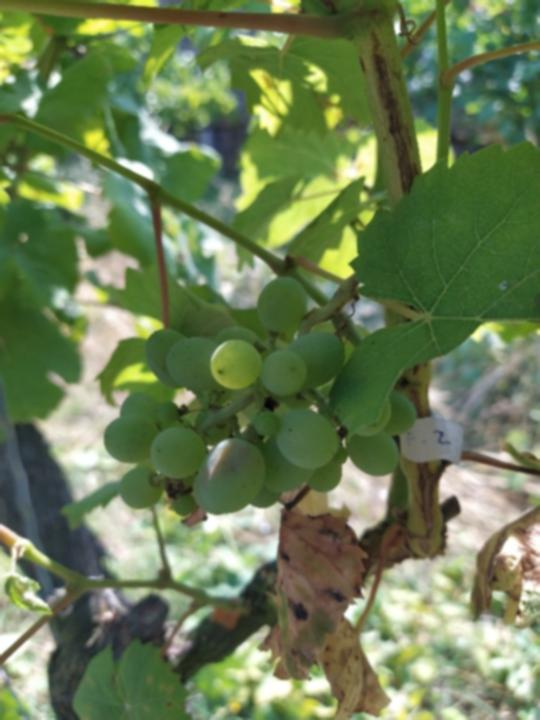grape: (98, 274, 421, 518)
